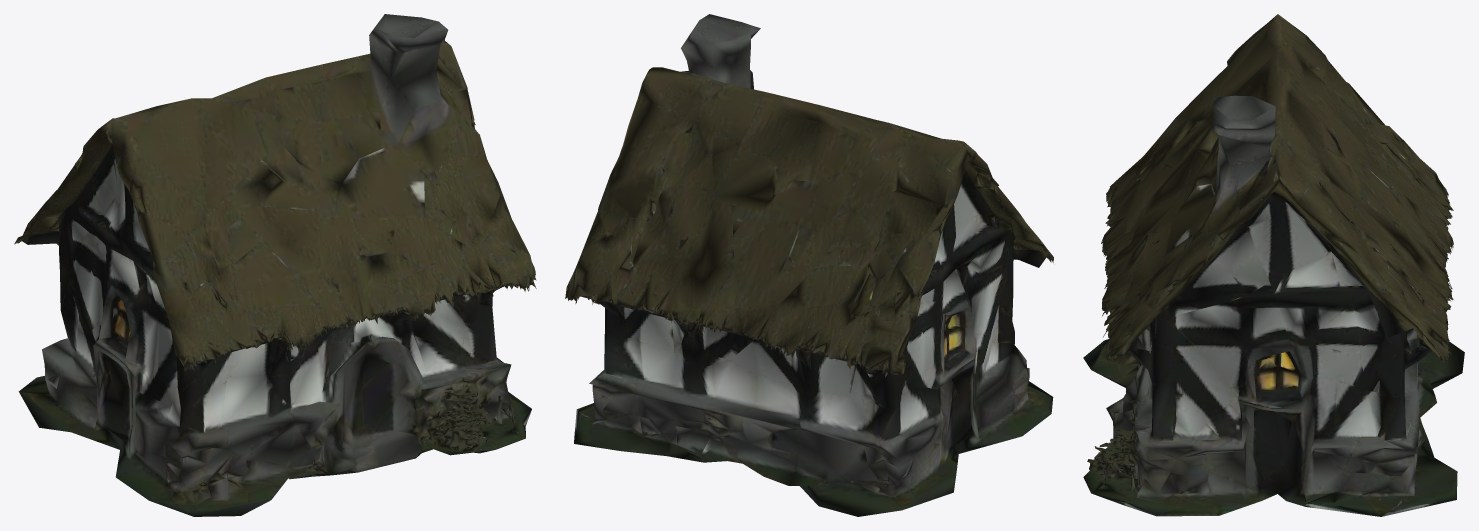
The model's file is village-house.glb.
3 renders of one model, left to right at view 1: azimuth 30°, elevation 25°; view 2: azimuth 150°, elevation 25°; view 3: azimuth 270°, elevation 25°, orthographic. The views are drawn at different scales.
Size of the model in its own units: 1.9 by 1.73 by 1.62.
1 material, 1 textured.
